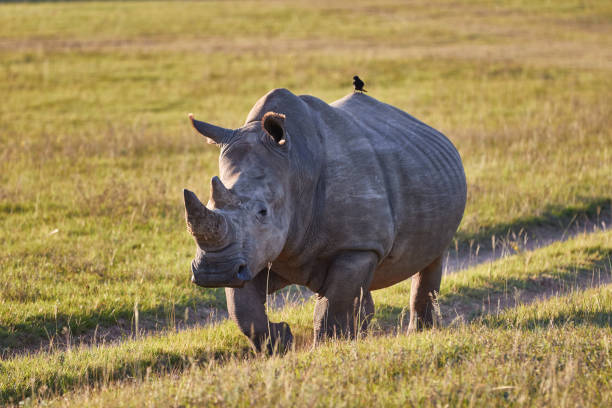rhino: (131, 90, 309, 320)
